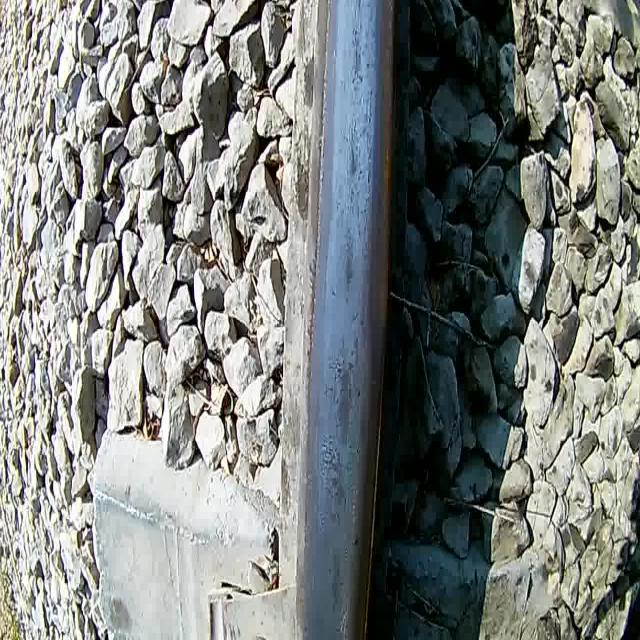Cracks: (319, 432, 339, 472), (334, 597, 353, 639), (325, 352, 348, 384), (348, 117, 358, 175)
Squats: (317, 429, 350, 528), (329, 350, 358, 451), (322, 544, 347, 618), (341, 116, 364, 183), (340, 220, 357, 300), (346, 25, 366, 89)
